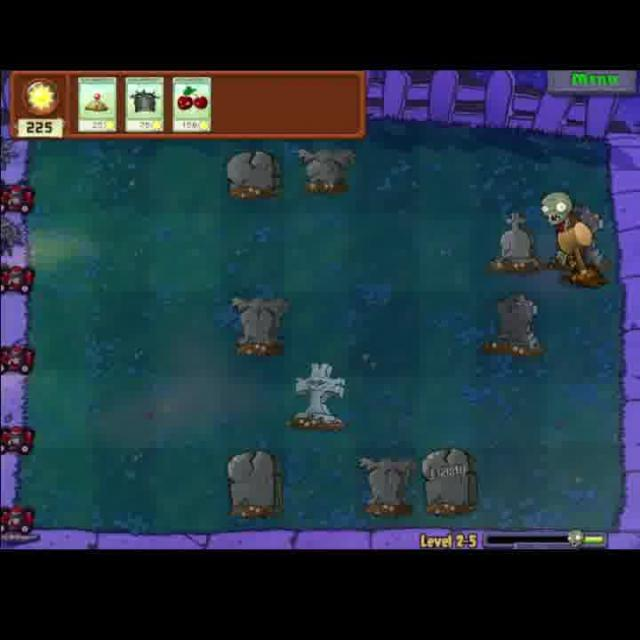coins: (540, 190, 596, 284)
